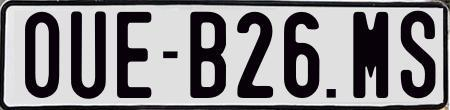0: (25, 9, 62, 101)
2: (234, 10, 273, 98)
6: (283, 12, 318, 104)
B: (188, 9, 226, 96)
E: (116, 12, 154, 99)
M: (353, 12, 394, 103)
S: (400, 11, 435, 98)
U: (68, 11, 106, 101)
